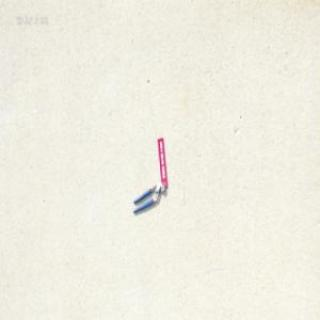LuggageTagtrack_idkeyframe: (156, 136, 167, 188)
Pliertrack_idkeyframe: (132, 179, 164, 213)
